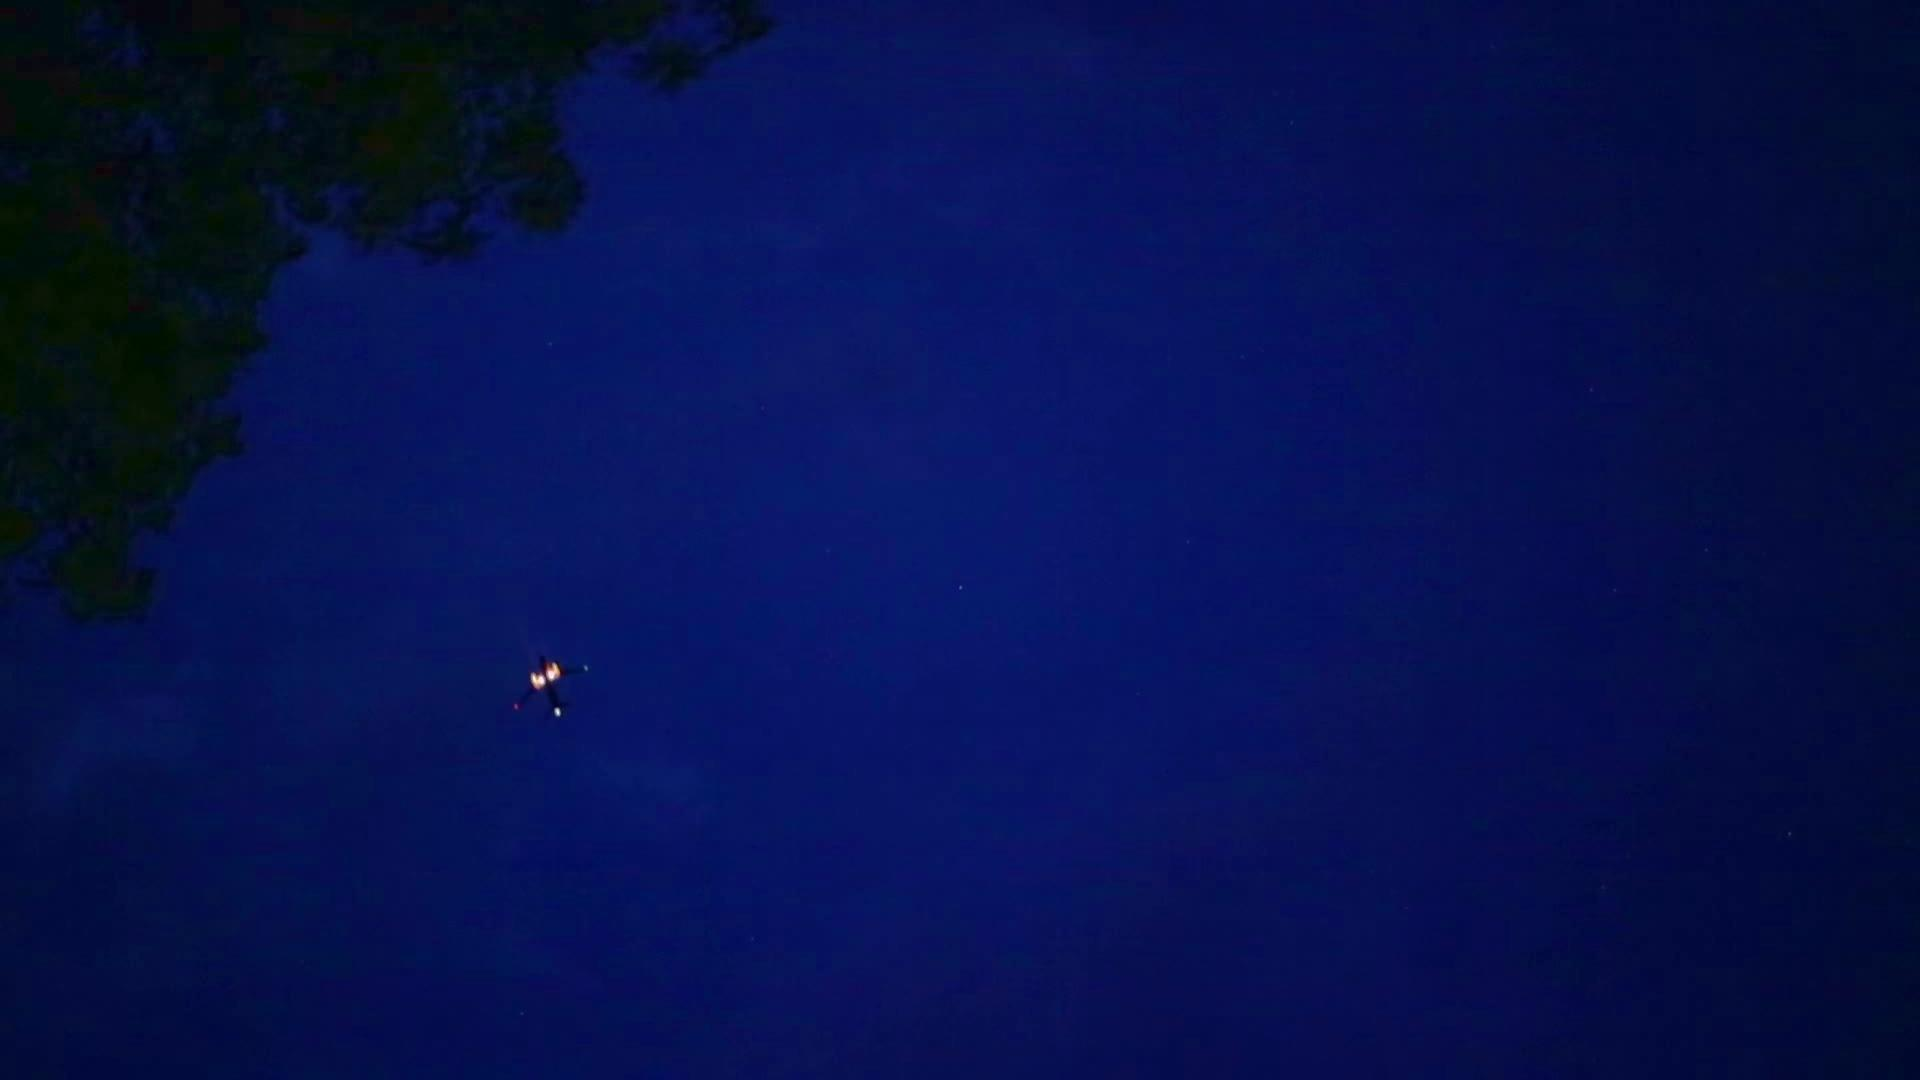Plane: (481, 640, 613, 735)
